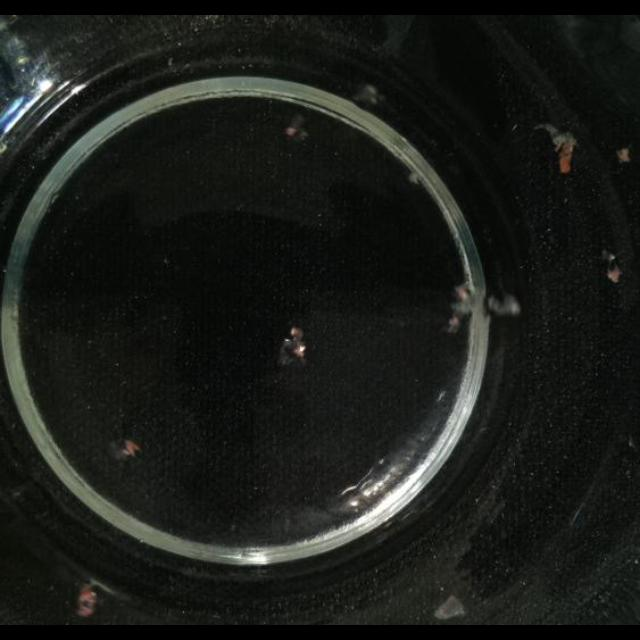Fibre: (346, 78, 388, 112), (488, 292, 526, 316)
Film: (435, 590, 469, 622)
Fragment: (536, 122, 578, 174), (443, 284, 473, 332), (70, 584, 102, 618), (280, 328, 310, 362), (107, 438, 141, 462), (602, 250, 622, 284), (284, 114, 310, 140), (616, 147, 630, 163)
microbeads: (408, 170, 422, 186)
